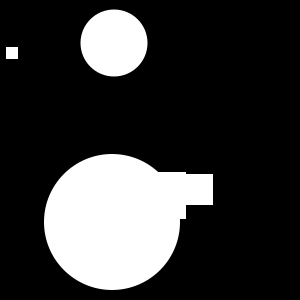circle: (139, 172, 186, 219), (182, 174, 213, 205), (6, 47, 18, 59)
rectangle: (44, 154, 180, 290), (80, 10, 148, 76)
